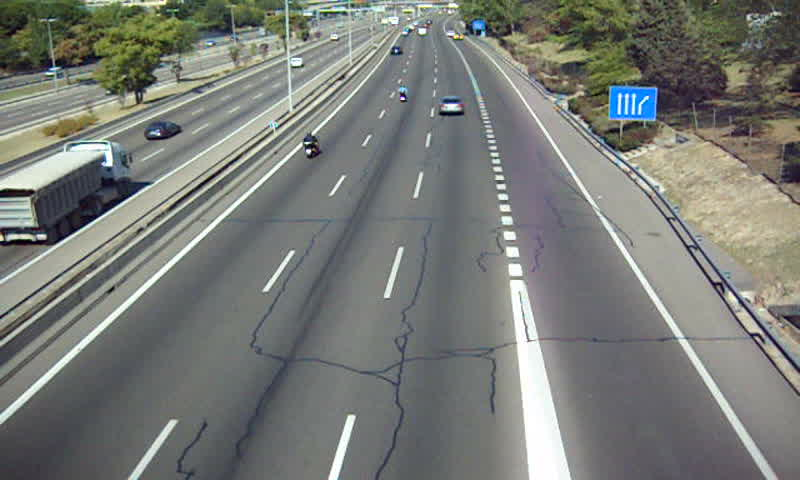car: (438, 97, 464, 114), (390, 46, 403, 56)
motorcycle: (302, 130, 317, 161), (398, 84, 408, 102)
